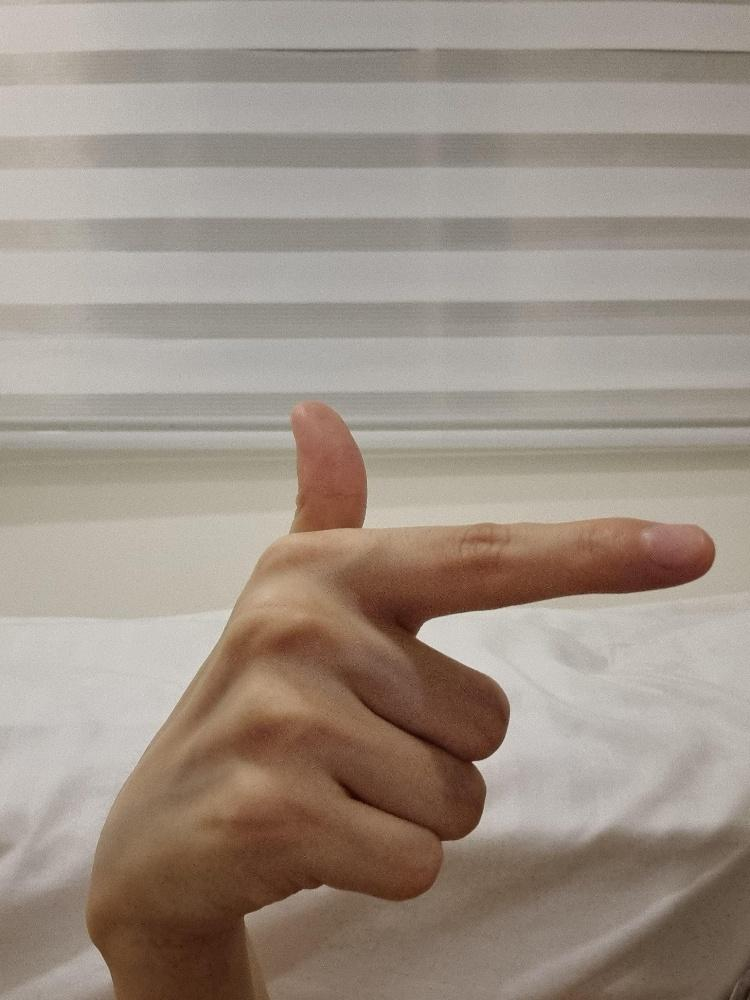g: (82, 393, 717, 940)
